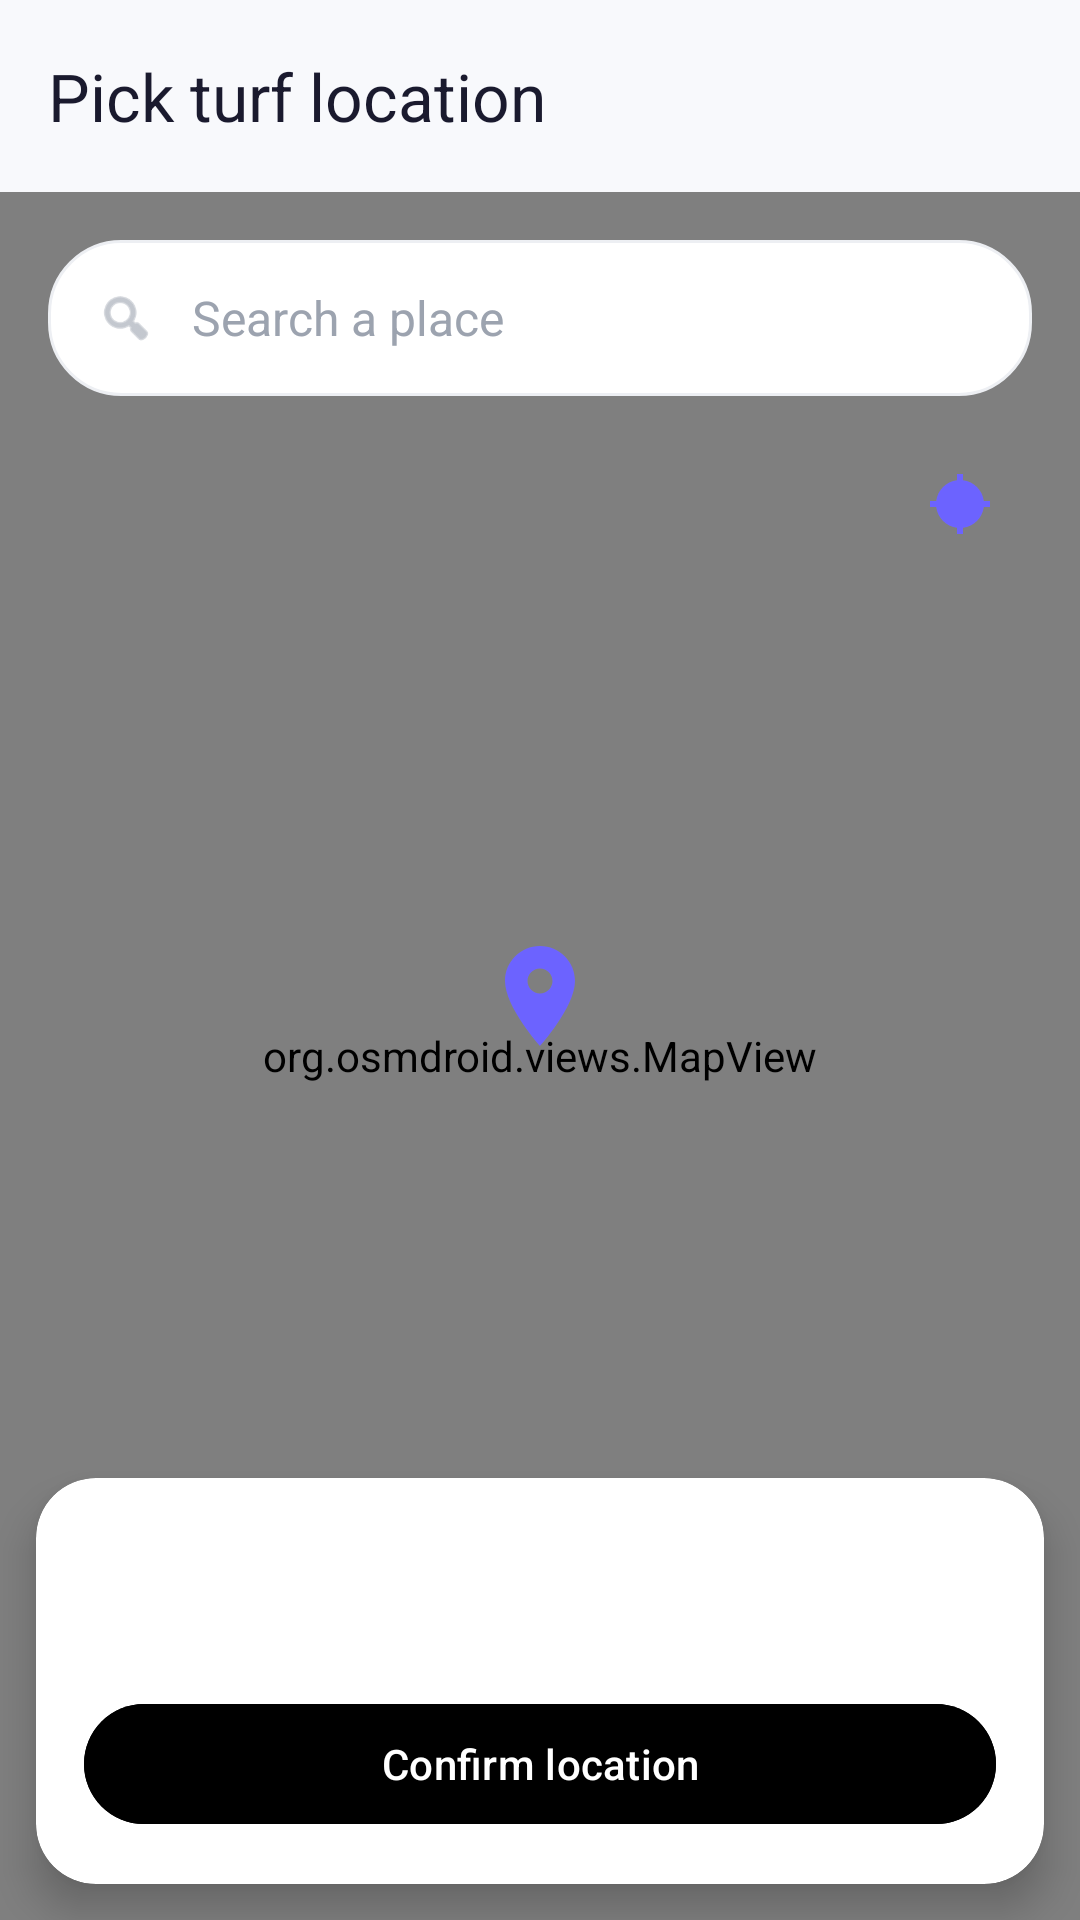

Point at icon controls on the screen. Image size 1080px×1920px, points as (x=x, y=y).
Use my location: (x=960, y=504)
